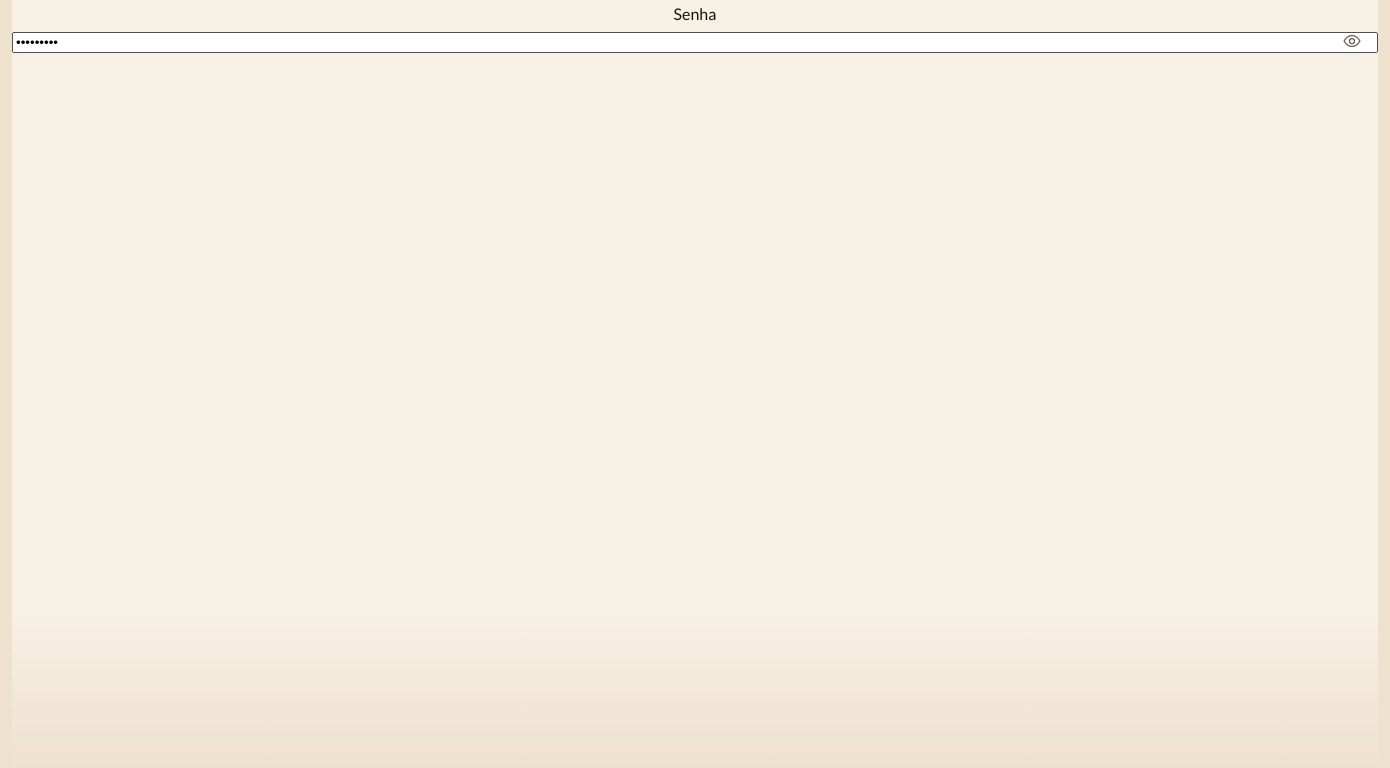
Test: PasswordInput › começa oculto e o olhinho alterna entre mostrar e ocultar a senha
This screenshot has width=1390, height=768.
Later steps or results of the test are not shown.
Click the button named "Mostrar senha".
click(1352, 41)  # box [1330,19,1374,63]
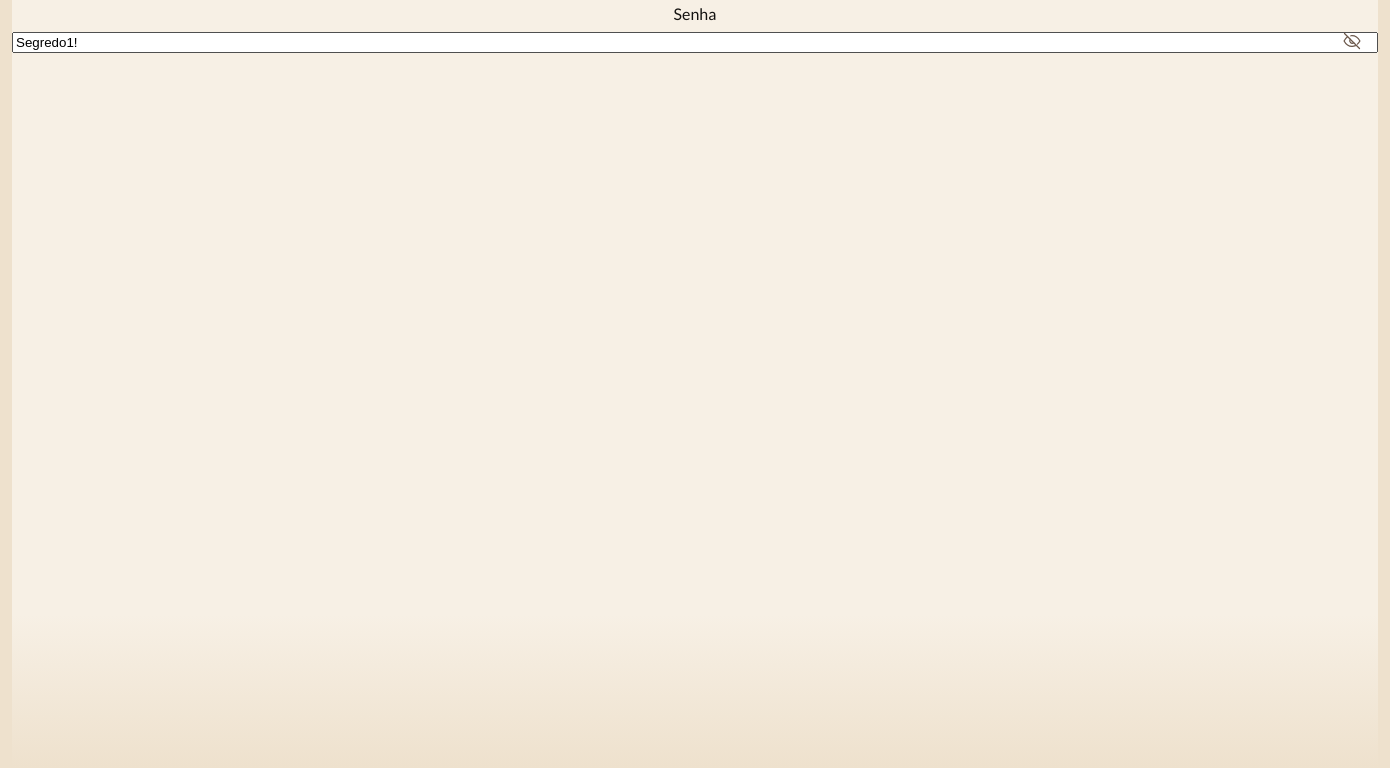
Result: the button named "Ocultar senha" is pressed at [1330,19,1374,63]
